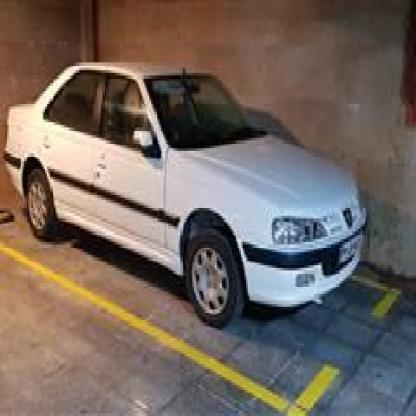Car: (0, 34, 357, 340)
